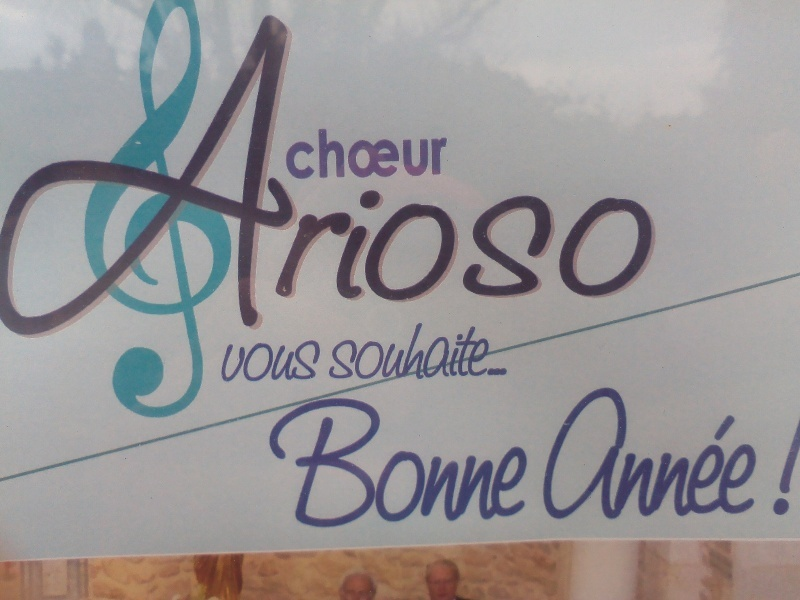text: (641, 2, 657, 347), (1, 2, 16, 347), (17, 2, 32, 347), (33, 2, 48, 347), (49, 2, 64, 347), (65, 2, 80, 347), (81, 2, 96, 347), (97, 2, 112, 347), (113, 2, 128, 347), (129, 2, 144, 347), (145, 2, 160, 347), (161, 2, 176, 347), (177, 2, 192, 347), (193, 2, 208, 347), (209, 2, 224, 347), (225, 2, 240, 347), (241, 2, 256, 347), (257, 2, 272, 347), (273, 2, 288, 347), (289, 2, 304, 347), (305, 2, 320, 347), (321, 2, 336, 347), (337, 2, 352, 347), (353, 2, 368, 347), (369, 2, 384, 347), (385, 2, 400, 347), (401, 2, 416, 347), (417, 2, 432, 347), (433, 2, 448, 347), (449, 2, 464, 347), (465, 2, 480, 347), (481, 2, 496, 347), (497, 2, 512, 347), (513, 2, 528, 347), (529, 2, 544, 347), (545, 2, 560, 347), (561, 2, 576, 347), (577, 2, 592, 347), (593, 2, 608, 347), (609, 2, 624, 347), (625, 2, 640, 347), (289, 388, 304, 531), (305, 388, 320, 531), (321, 388, 336, 531), (337, 388, 352, 531), (353, 388, 368, 531), (369, 388, 384, 531), (385, 388, 400, 531), (401, 388, 416, 531), (417, 388, 432, 531), (433, 388, 448, 531), (449, 388, 464, 531), (465, 388, 480, 531), (481, 388, 496, 531), (497, 388, 512, 531), (513, 388, 528, 531), (561, 383, 576, 523), (577, 383, 592, 523), (593, 383, 608, 523), (609, 383, 624, 523), (625, 383, 640, 523), (641, 383, 656, 523), (657, 383, 672, 523), (673, 383, 688, 523), (689, 383, 704, 523), (705, 383, 720, 523), (721, 383, 736, 523), (737, 383, 752, 523), (274, 388, 288, 531), (529, 388, 539, 531), (770, 420, 784, 517), (785, 420, 799, 517), (753, 383, 762, 523), (433, 124, 449, 181), (337, 321, 352, 381), (353, 321, 368, 381), (369, 321, 384, 381), (385, 321, 400, 381), (401, 321, 416, 381), (417, 321, 432, 381), (433, 321, 448, 381), (449, 321, 464, 381), (465, 321, 480, 381), (481, 321, 496, 381), (497, 321, 512, 381), (289, 124, 304, 181), (305, 124, 320, 181), (321, 124, 336, 181), (337, 124, 352, 181), (353, 124, 368, 181), (369, 124, 384, 181), (385, 124, 400, 181), (401, 124, 416, 181), (417, 124, 432, 181), (225, 340, 240, 383), (241, 340, 256, 383), (257, 340, 272, 383), (273, 340, 288, 383), (289, 340, 304, 383), (305, 340, 320, 383), (513, 321, 521, 381), (558, 383, 560, 523), (284, 124, 288, 181), (321, 340, 324, 383)
